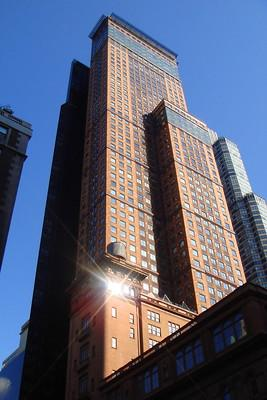building: (26, 10, 261, 397)
